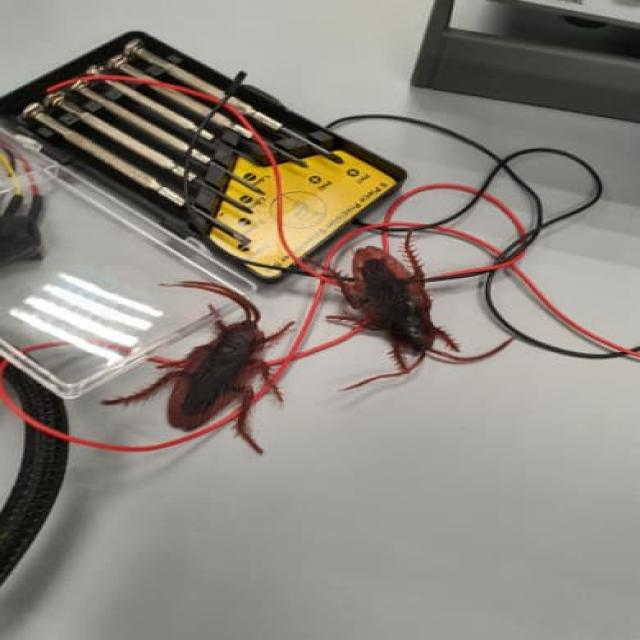Cockroach: (287, 232, 530, 398), (102, 268, 305, 462)
